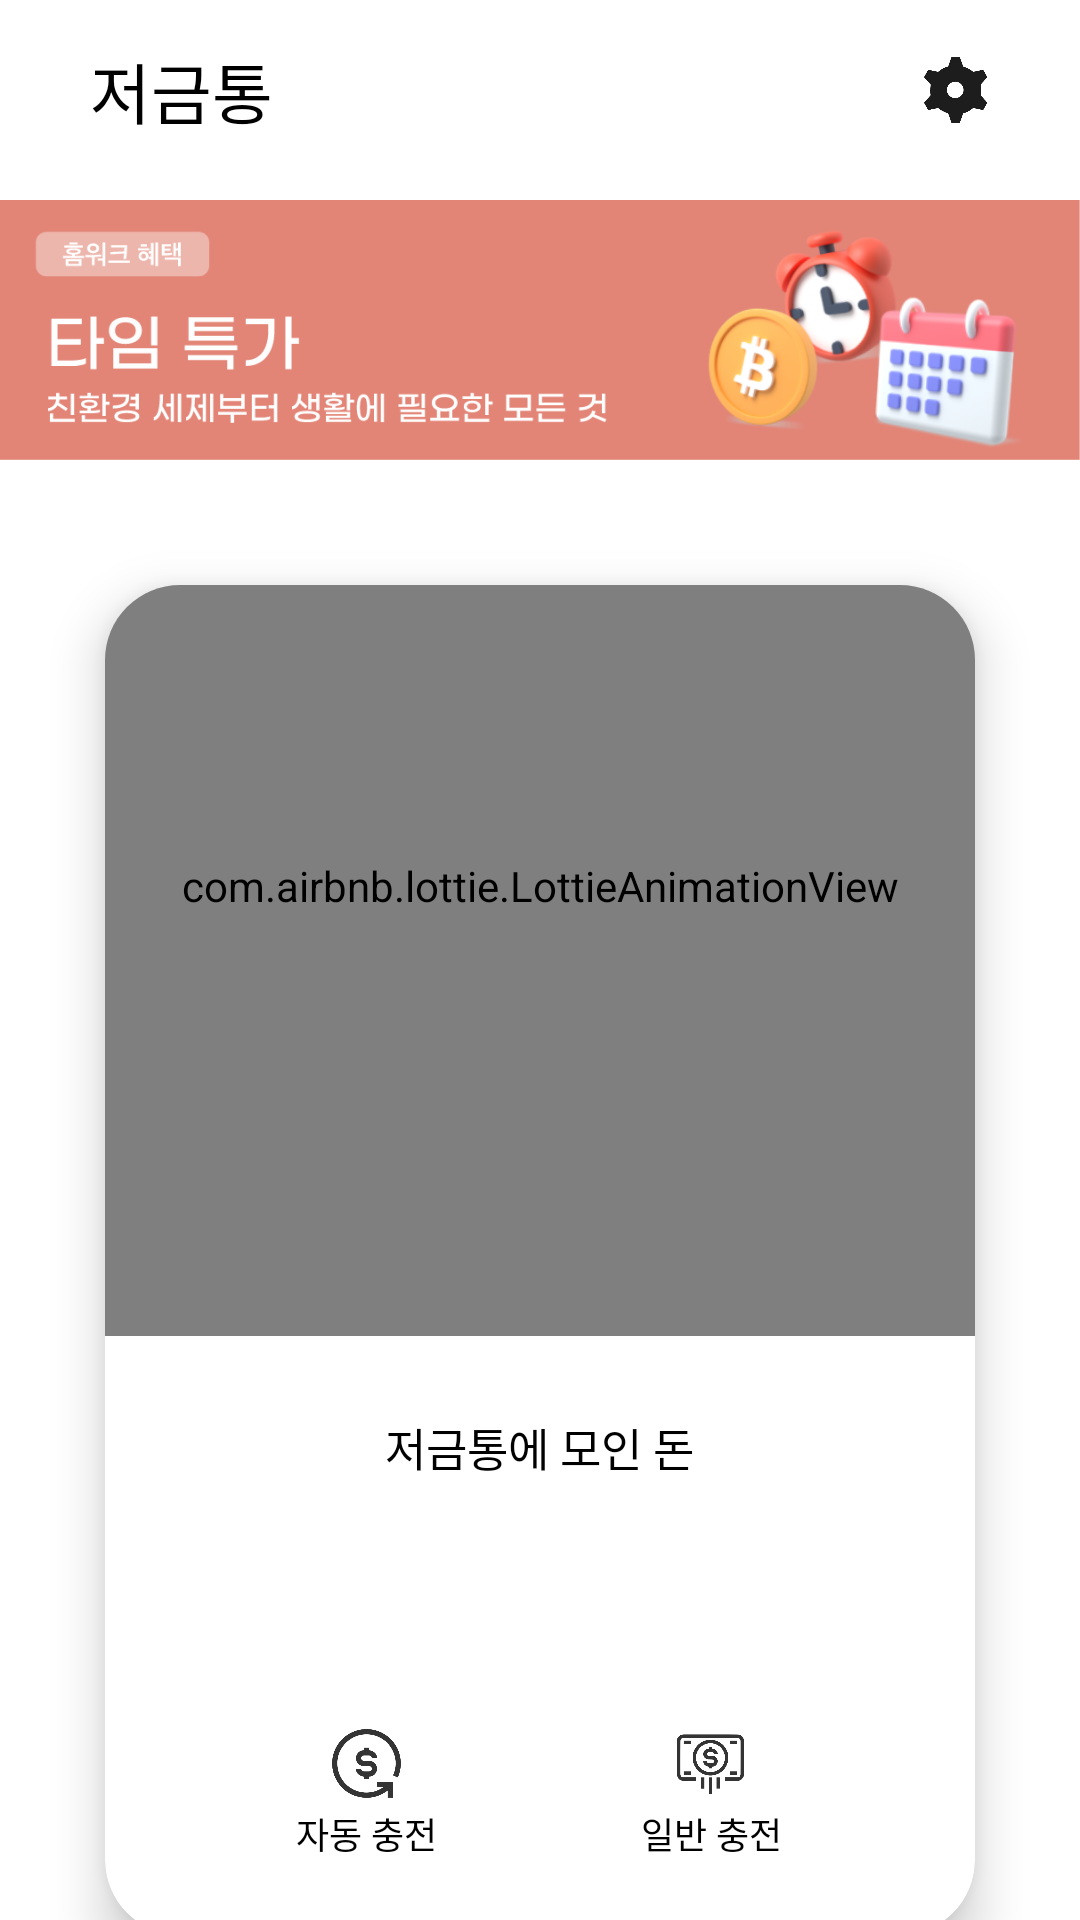

Where icons sit on this 1080w x 1920h app screen, as (x1, y1, x2, y2):
setting: (924, 57, 987, 123)
